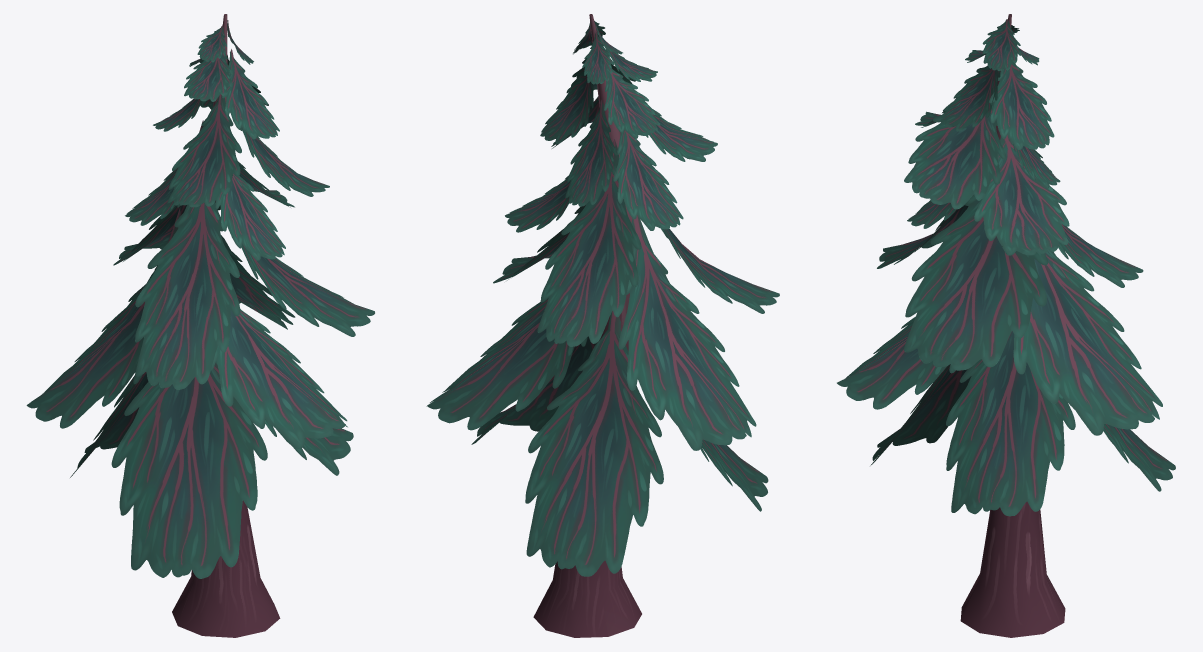
The model's file is PineTree.fbx.
3 renders of one model, left to right at view 1: azimuth 30°, elevation 25°; view 2: azimuth 150°, elevation 25°; view 3: azimuth 270°, elevation 25°, orthographic.
Visible parts, largest first — view 1: Pinetree_leaves.010, Pinetree_base.010; view 2: Pinetree_leaves.010, Pinetree_base.010; view 3: Pinetree_leaves.010, Pinetree_base.010.
Part boxes in pixels (left/top/right/bottom): Pinetree_leaves.010: left=26, top=20, right=374, bottom=578; Pinetree_base.010: left=172, top=14, right=280, bottom=637; Pinetree_leaves.010: left=426, top=21, right=779, bottom=576; Pinetree_base.010: left=533, top=14, right=641, bottom=637; Pinetree_leaves.010: left=837, top=19, right=1175, bottom=516; Pinetree_base.010: left=960, top=14, right=1065, bottom=637.
Size of the model in its own units: 2198 by 3968 by 2220.
